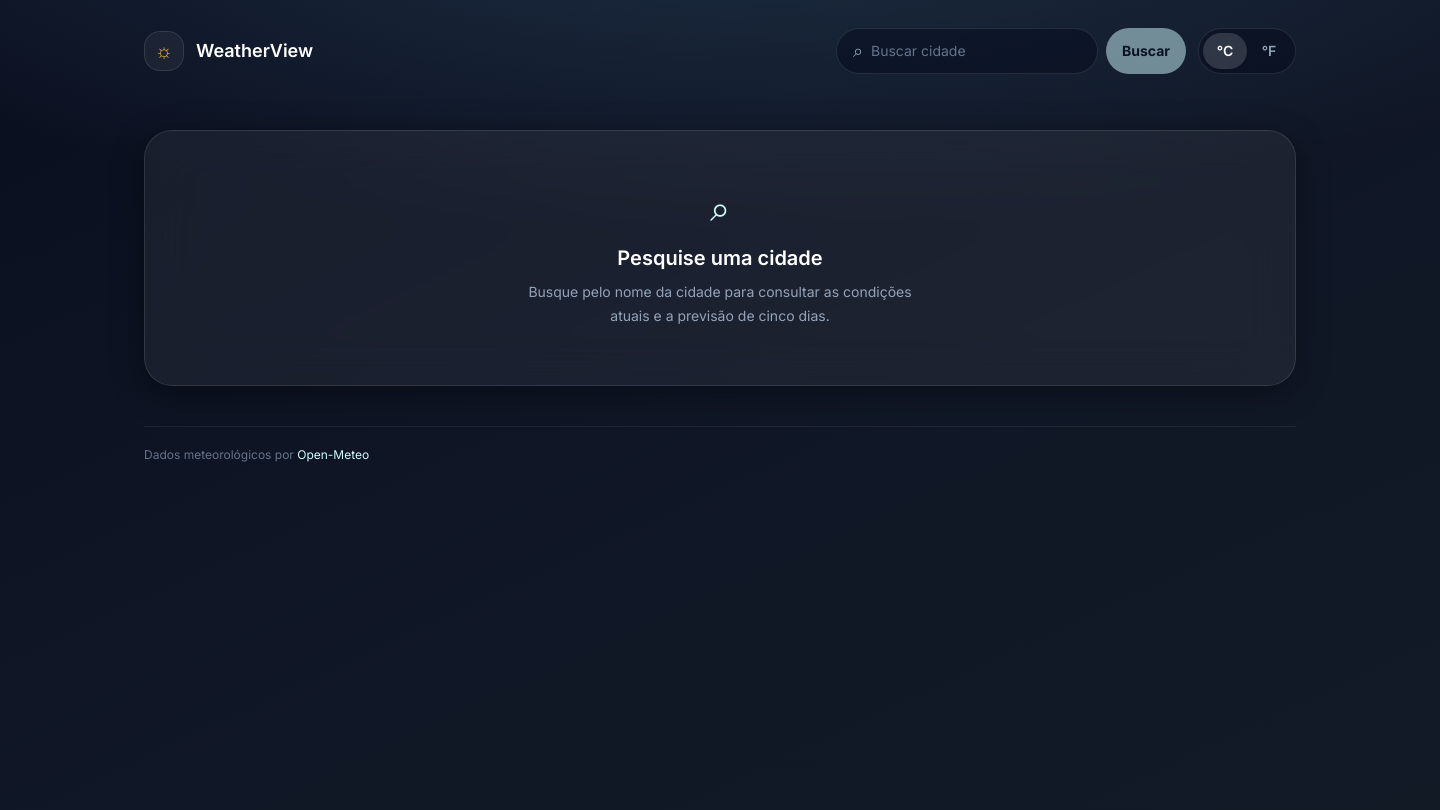
Test case: WeatherView › converte a temperatura atual e a previsão para Fahrenheit
Type "Lisboa" into the search field labelled "Buscar cidade".
click(976, 51); type("Lisboa")  # box [871, 29, 1081, 73]
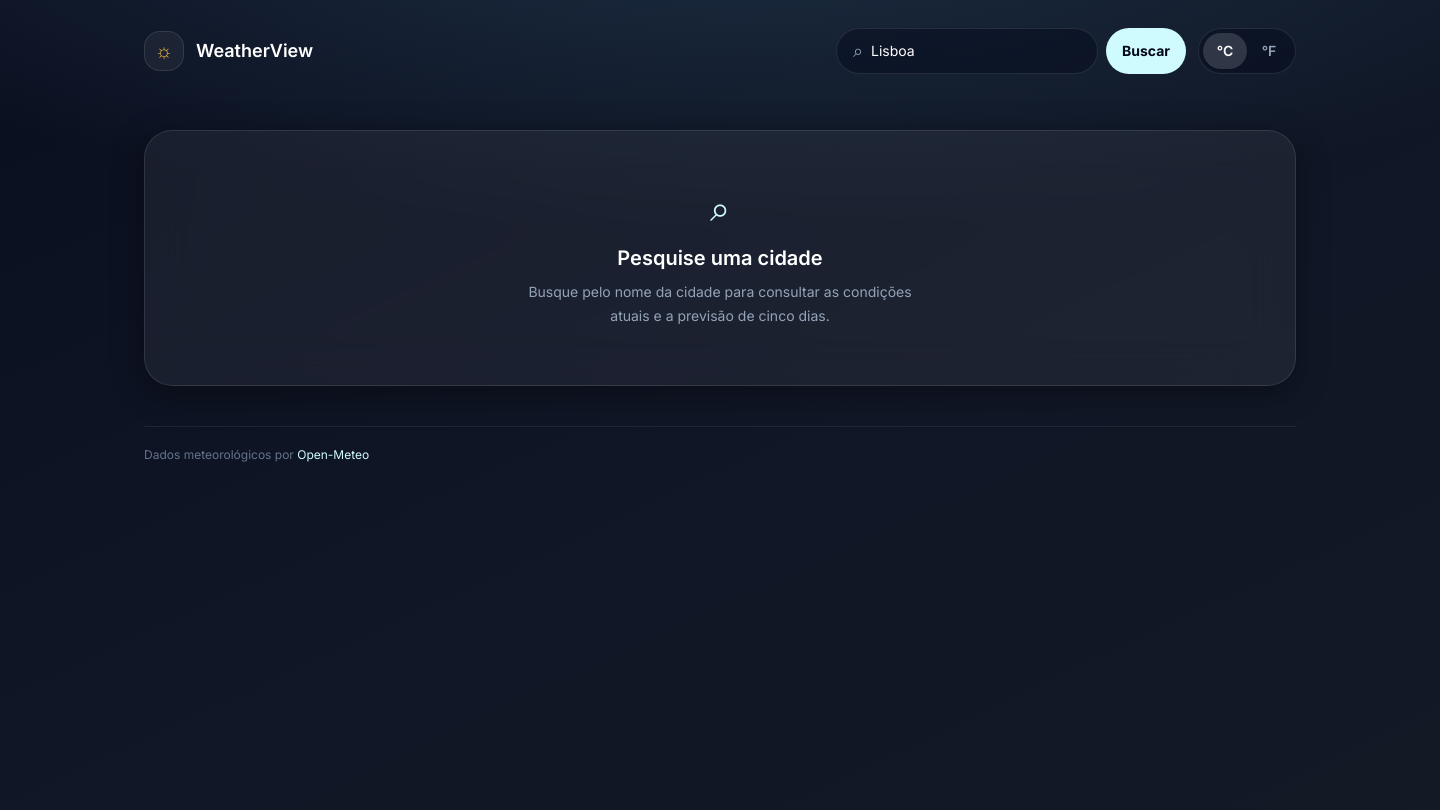
Click the button "Buscar".
click(1146, 51)  # box [1106, 28, 1186, 74]
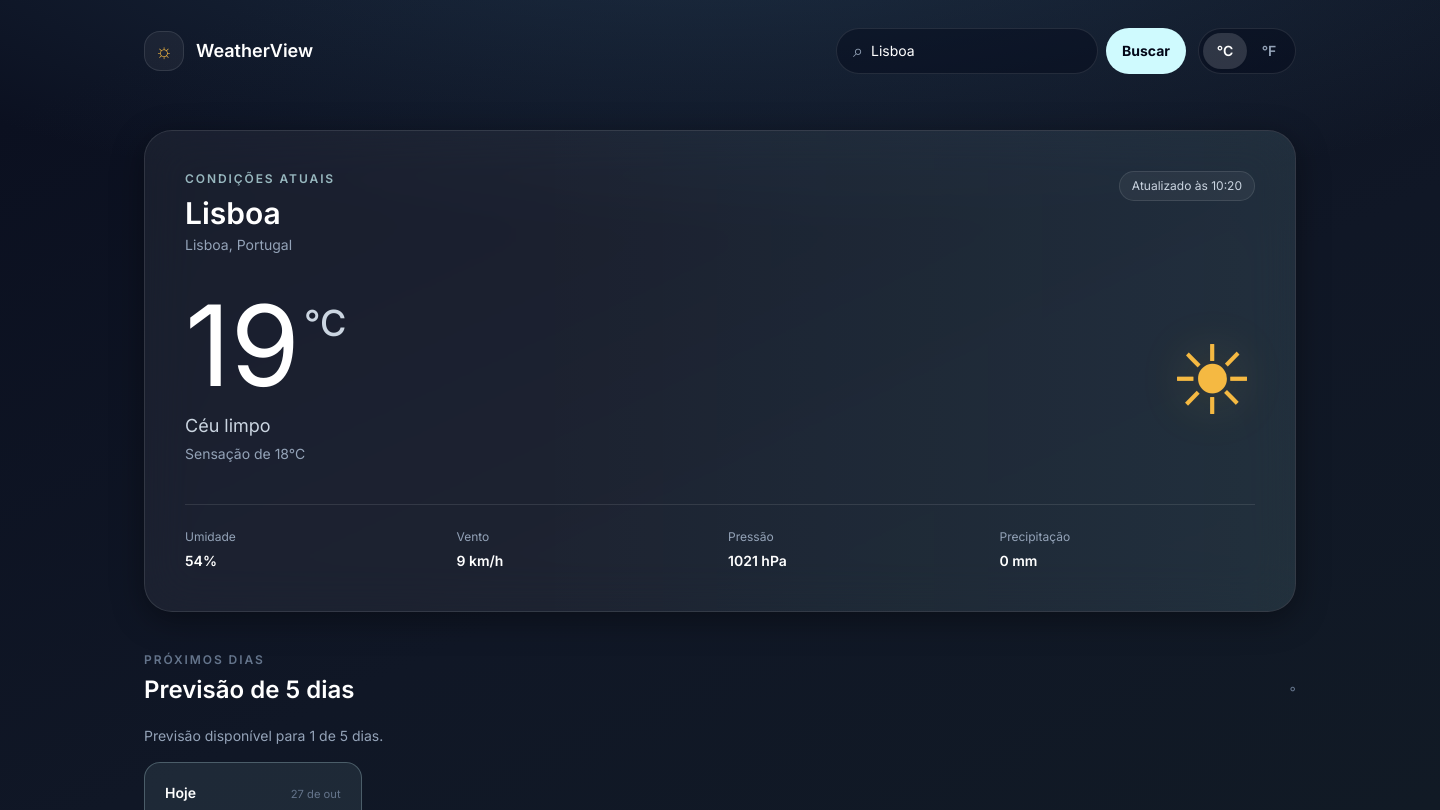
Check: the heading "Lisboa" is shown, box [185, 195, 281, 231]
Click the button "°F".
click(1269, 51)  # box [1247, 33, 1291, 69]
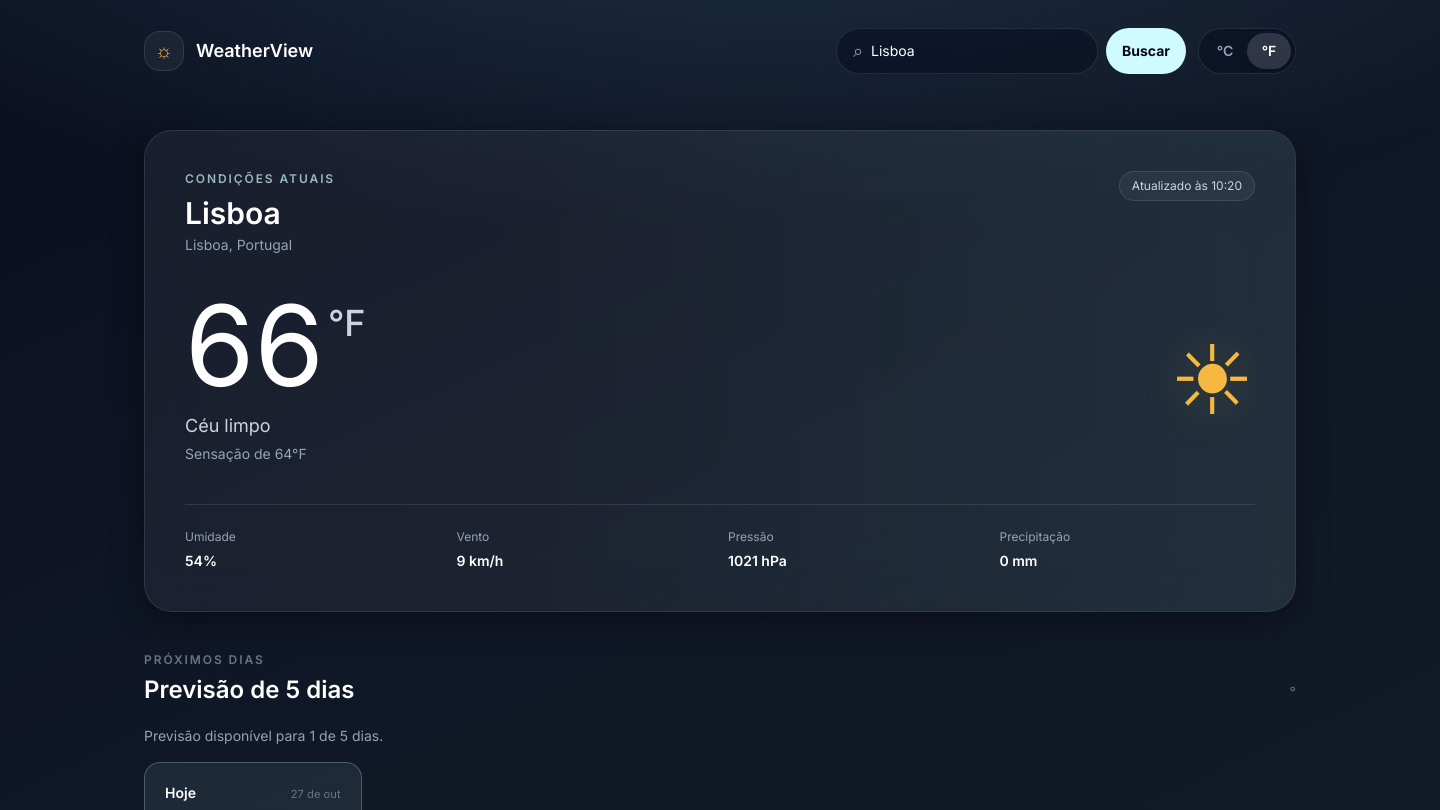
Check: the message reads "Previsão disponível para 1 de 5 dias.", box [144, 727, 383, 744]
Check: the text "66" is shown, box [185, 295, 324, 396]
